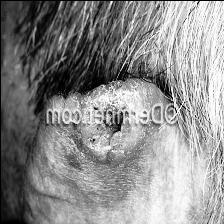Potentially Malignant Skin Tumors: (78, 122, 146, 158), (83, 77, 150, 106)
